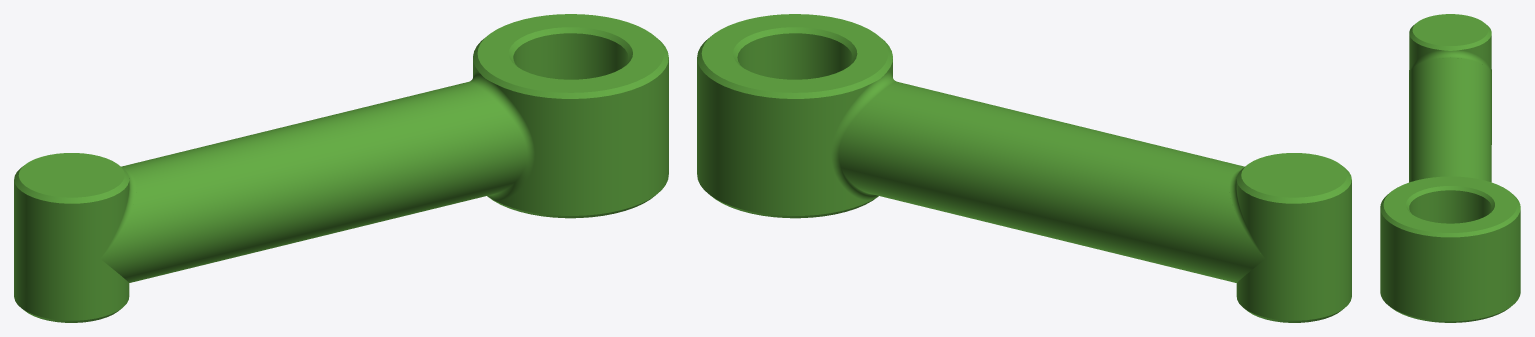
3 views of the same model, side by side, from view 1: azimuth 30°, elevation 25°; view 2: azimuth 150°, elevation 25°; view 3: azimuth 270°, elevation 25° (orthographic). The views are drawn at different scales.
Parts seen in each view (by area): view 1: ID2; view 2: ID2; view 3: ID2.
Part boxes in pixels (x1,y1,x2,y2): ID2: (14,14,668,322); ID2: (697,14,1351,322); ID2: (1380,14,1520,322).
Size of the model in its own units: 0.635 by 0.17 by 0.12.
